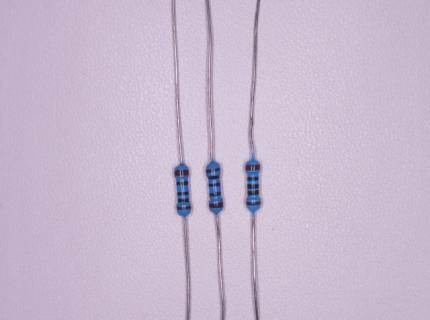Black band: (176, 181, 188, 186), (177, 191, 189, 196), (177, 198, 189, 203), (209, 192, 221, 197), (209, 182, 221, 187), (207, 175, 219, 180), (247, 184, 259, 189), (247, 190, 259, 195), (247, 177, 259, 181)
Brown band: (245, 164, 261, 170), (206, 168, 221, 174), (174, 170, 189, 176), (209, 202, 223, 208), (246, 201, 261, 205), (176, 206, 191, 210)
